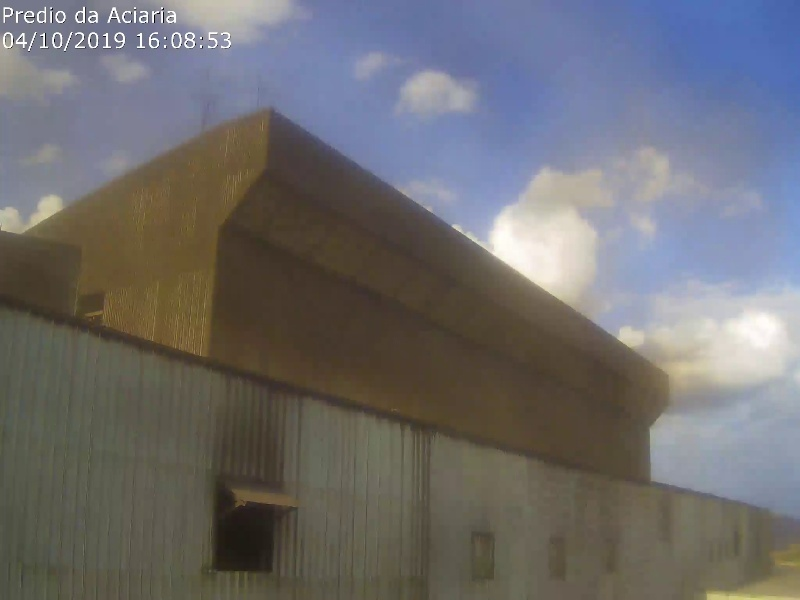ruim: (22, 39, 273, 151), (495, 319, 746, 431)
